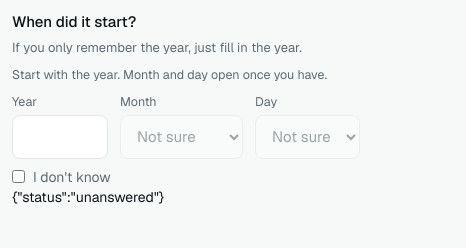
Test: partial dates by keyboard › adds a month and reads it back as March 2026
Step 1. Type "2026" into the number field labelled "Year" → (60, 137), box top-left (12, 115), bottom-right (108, 159)
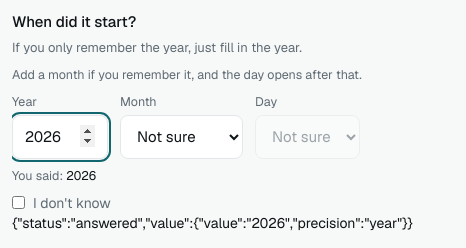
Step 2. Select "March" in the dropdown labelled "Month" → (182, 137), box top-left (120, 115), bottom-right (243, 159)
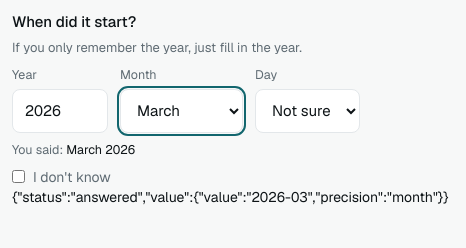
Expected: the text "You said: March 2026" is shown, top-left (12, 140), bottom-right (135, 158)
